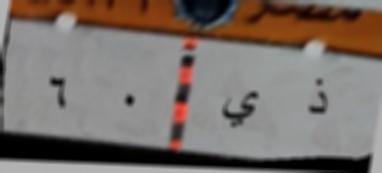0: (116, 85, 147, 118)
6: (39, 71, 77, 117)
yaa: (210, 84, 267, 134)
zaal: (298, 72, 342, 120)
